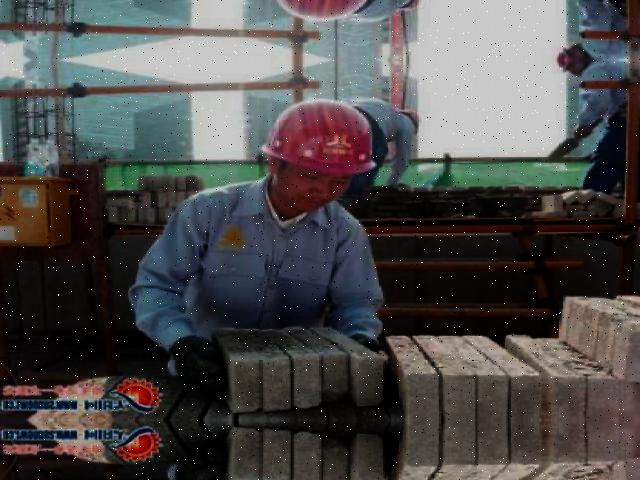Helmet: (255, 93, 382, 182)
